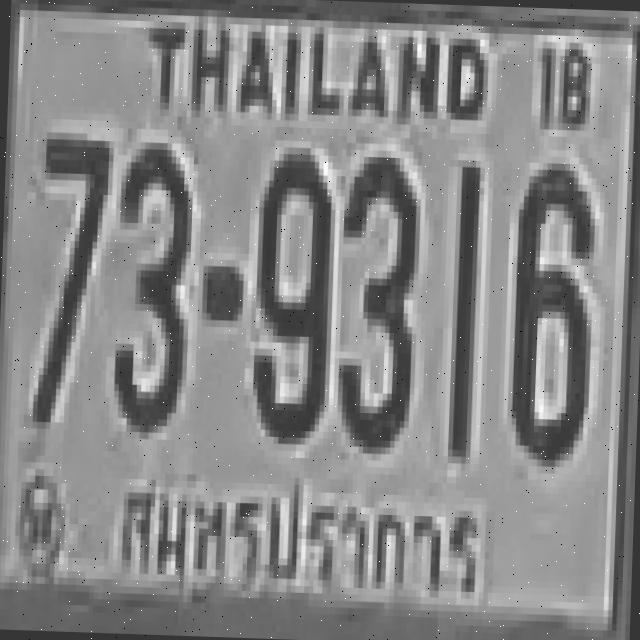1: (428, 140, 502, 486)
3: (342, 139, 431, 469), (114, 119, 196, 466)
6: (492, 148, 614, 484)
7: (12, 125, 129, 463)
9: (222, 132, 354, 468)
SamutPrakan: (94, 467, 522, 606)
